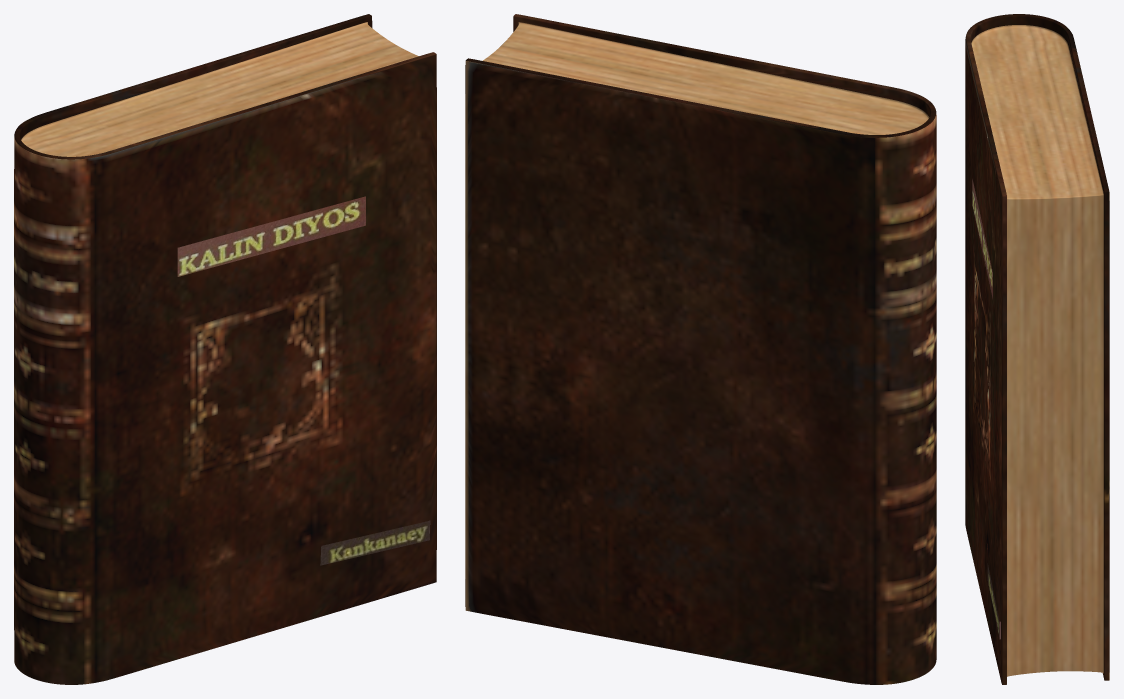
The model's file is _book.FBX.
The picture shows the model from 3 angles, left to right: view 1: azimuth 30°, elevation 25°; view 2: azimuth 150°, elevation 25°; view 3: azimuth 270°, elevation 25°; orthographic projection. The views are drawn at different scales.
Visible parts, largest first — view 1: pCube5; view 2: pCube5; view 3: pCube5.
Boxes of the visible parts, x1,y1,x2,y2 form: pCube5: (14, 14, 436, 684); pCube5: (465, 14, 936, 684); pCube5: (965, 14, 1109, 684).
Bounding box in the file's own units: 11.85 × 14.75 × 3.94.
